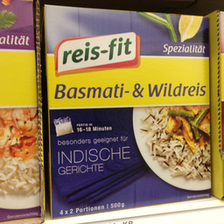rice: (44, 5, 212, 218)
